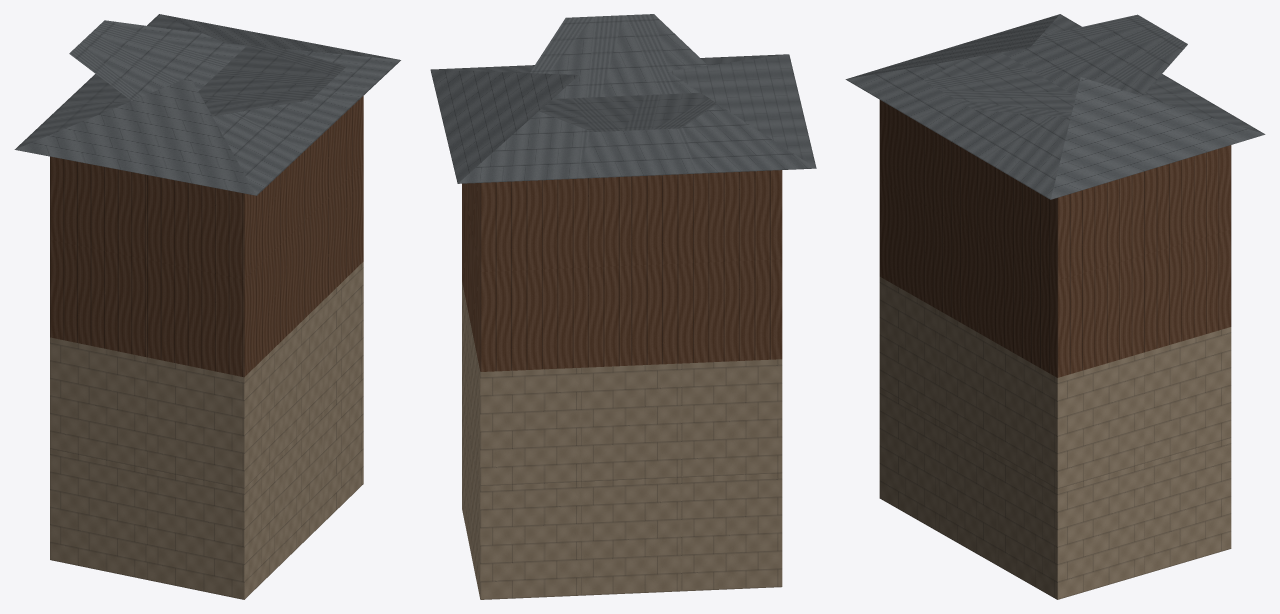
File: bld_c-2_-1_534.gltf
3 renders of one model, left to right at view 1: azimuth 30°, elevation 25°; view 2: azimuth 150°, elevation 25°; view 3: azimuth 270°, elevation 25°, orthographic. The views are drawn at different scales.
Parts seen in each view (by area): view 1: bld_c-2_-1_534; view 2: bld_c-2_-1_534; view 3: bld_c-2_-1_534.
Part boxes in pixels (x1,y1,x2,y2): bld_c-2_-1_534: (14, 14, 400, 599); bld_c-2_-1_534: (430, 14, 816, 599); bld_c-2_-1_534: (845, 14, 1265, 599).
Bounding box in the file's own units: 8.9 × 10.3 × 8.5.
3 materials, 3 textured.
